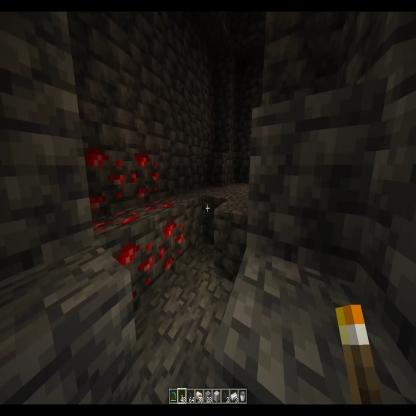redstone ore: (87, 208, 155, 305), (79, 146, 133, 216), (152, 193, 186, 283), (131, 146, 163, 206)
